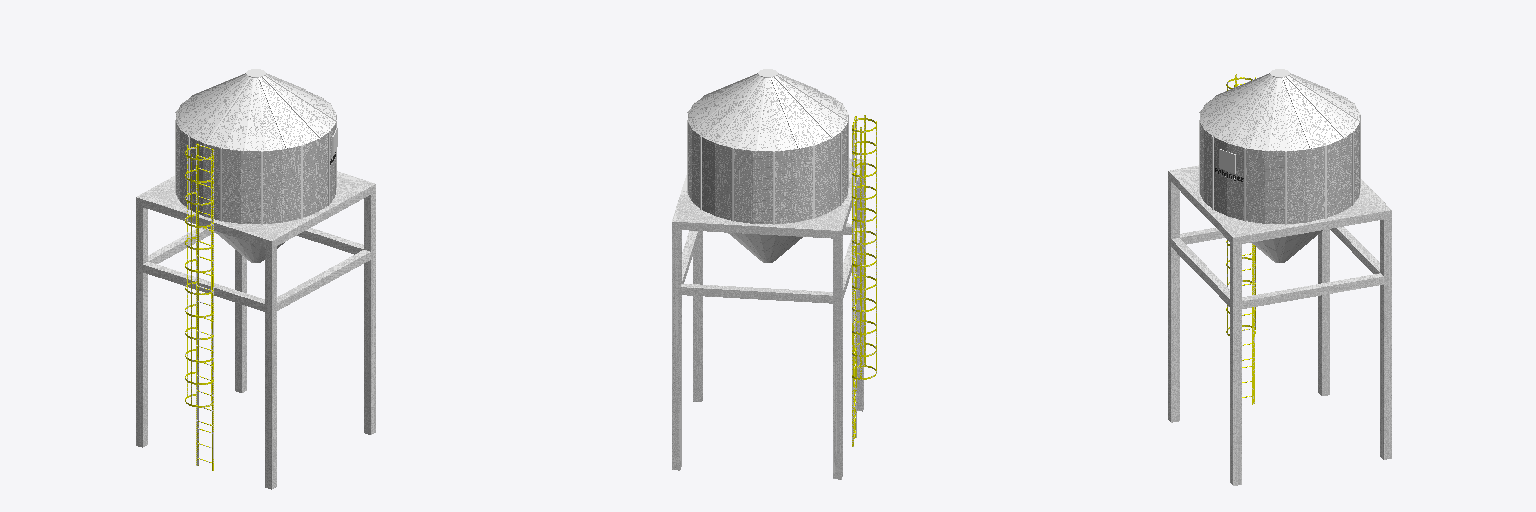
3 views of the same model, side by side, from view 1: azimuth 30°, elevation 25°; view 2: azimuth 150°, elevation 25°; view 3: azimuth 270°, elevation 25° (orthographic).
Parts seen in each view (by area): view 1: mesh1_mesh1-geometry, mesh14_mesh14-geometry, mesh26_mesh26-geometry, mesh29_mesh29-geometry, mesh25_mesh25-geometry; view 2: mesh1_mesh1-geometry, mesh14_mesh14-geometry, mesh26_mesh26-geometry, mesh29_mesh29-geometry, mesh25_mesh25-geometry; view 3: mesh1_mesh1-geometry, mesh14_mesh14-geometry, mesh26_mesh26-geometry, mesh25_mesh25-geometry, mesh29_mesh29-geometry.
Part boxes in pixels (x1,y1,x2,y2): mesh1_mesh1-geometry: (136,171,375,489); mesh14_mesh14-geometry: (175,98,336,224); mesh26_mesh26-geometry: (175,69,336,150); mesh29_mesh29-geometry: (185,143,213,470); mesh25_mesh25-geometry: (176,195,335,262); mesh1_mesh1-geometry: (672,158,863,479); mesh14_mesh14-geometry: (687,98,848,224); mesh26_mesh26-geometry: (687,69,848,150); mesh29_mesh29-geometry: (852,115,876,446); mesh25_mesh25-geometry: (689,195,847,262); mesh1_mesh1-geometry: (1168,165,1391,485); mesh14_mesh14-geometry: (1199,98,1360,224); mesh26_mesh26-geometry: (1199,69,1360,150); mesh25_mesh25-geometry: (1221,195,1359,262); mesh29_mesh29-geometry: (1226,74,1255,404).
Size of the model in its own units: 0.4363 by 0.7869 by 0.4363.
8 materials, 2 textured.